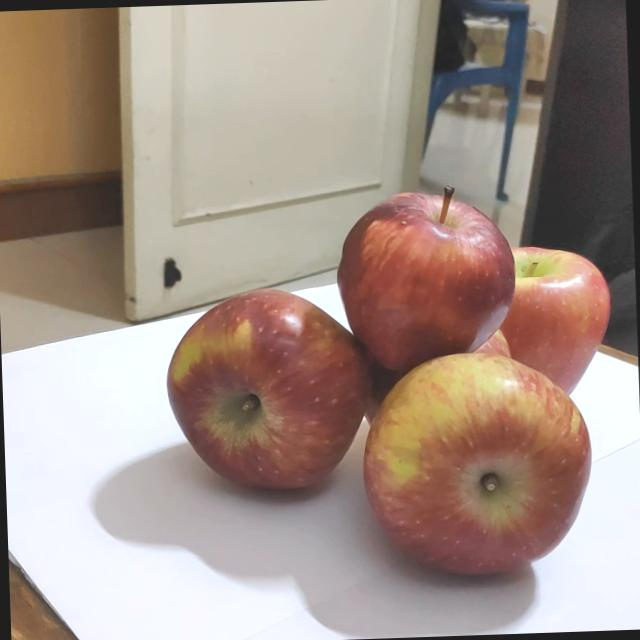apple: (142, 262, 384, 516), (378, 367, 572, 567), (334, 175, 520, 368), (466, 218, 638, 390)
